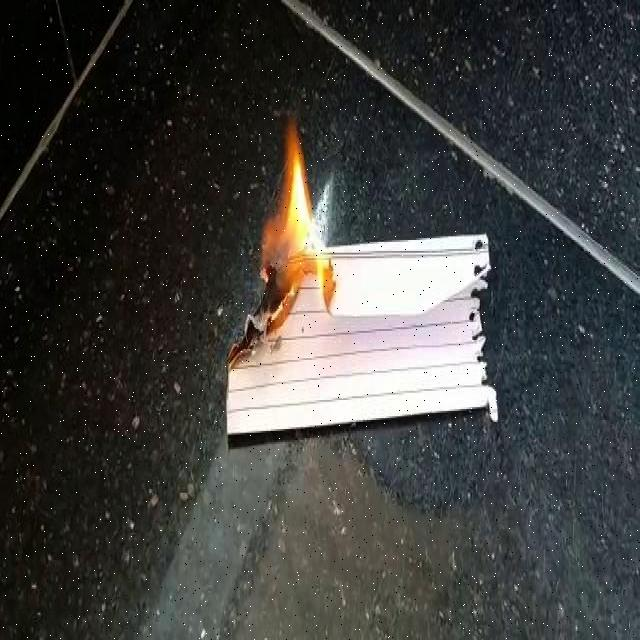fire: (260, 134, 355, 288)
